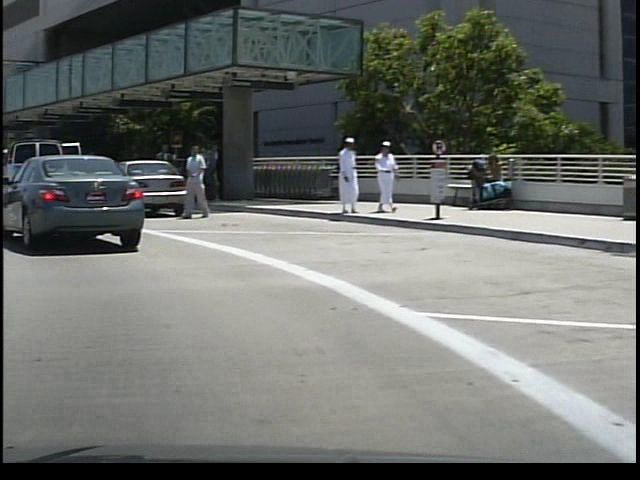person: (178, 137, 212, 226), (369, 135, 401, 216), (331, 133, 357, 219)
